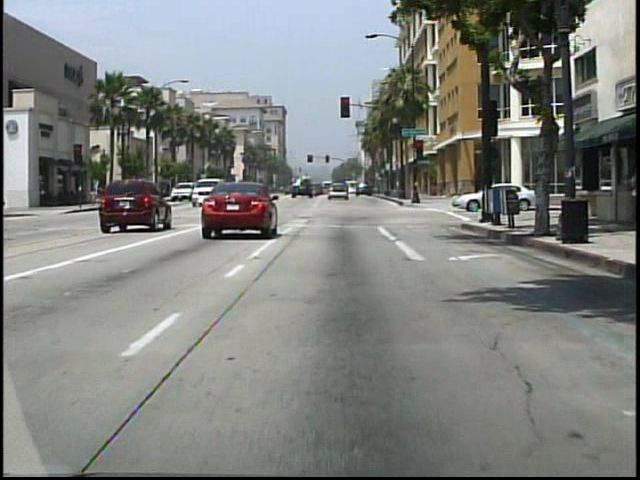person: (625, 165, 638, 228)
